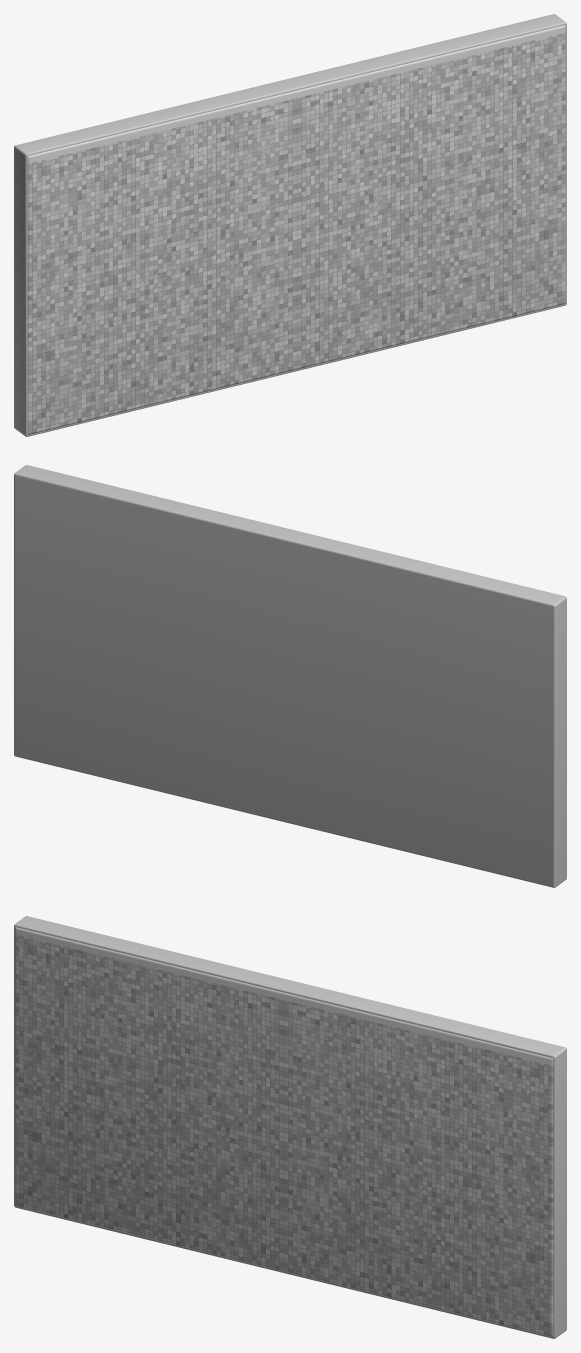
Rendered from PartyBackWall01_2.FBX.
3 renders of one model, top to bottom at view 1: azimuth 30°, elevation 25°; view 2: azimuth 150°, elevation 25°; view 3: azimuth 330°, elevation 25°, orthographic.
Visible parts, largest first — view 1: PartyBackWall01_2; view 2: PartyBackWall01_2; view 3: PartyBackWall01_2.
Boxes of the visible parts, bbox=[...] form: PartyBackWall01_2: bbox=[14, 14, 566, 436]; PartyBackWall01_2: bbox=[14, 465, 566, 887]; PartyBackWall01_2: bbox=[14, 916, 566, 1338].
Size of what is drawn, in the model's own units: 5 by 2.5 by 0.2078.
